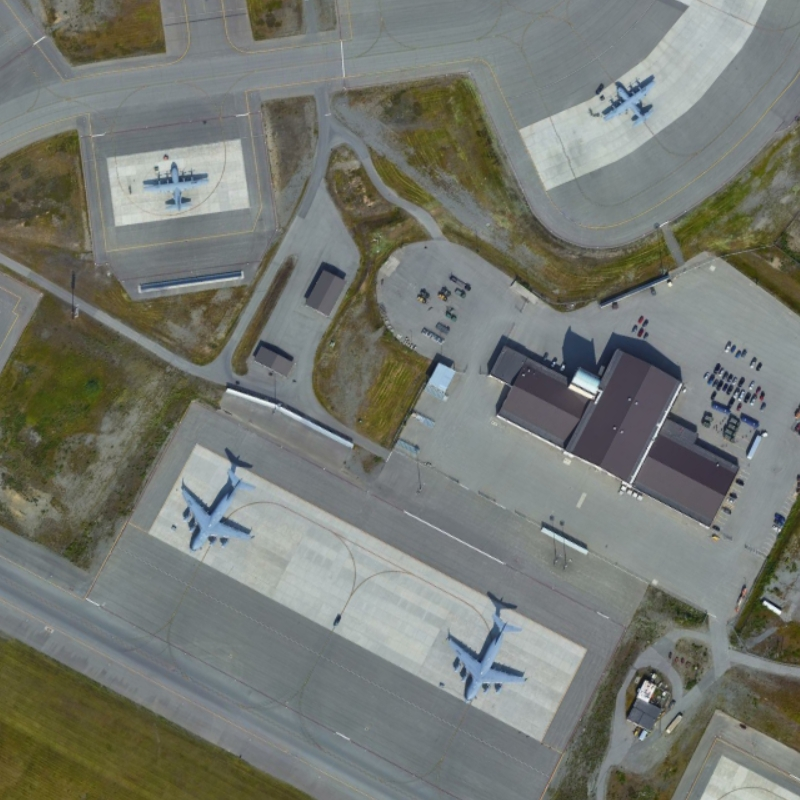A2: (137, 155, 215, 215), (592, 69, 662, 128)
A3: (168, 461, 260, 560), (444, 608, 532, 707)
